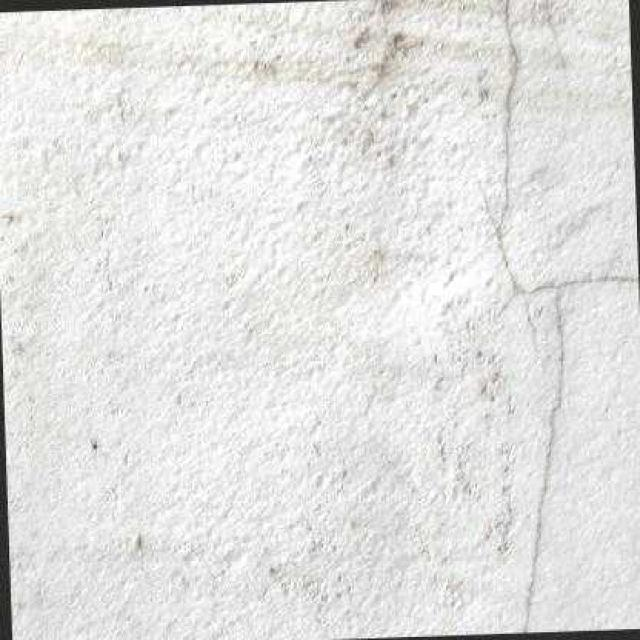D00: (494, 0, 639, 630)
